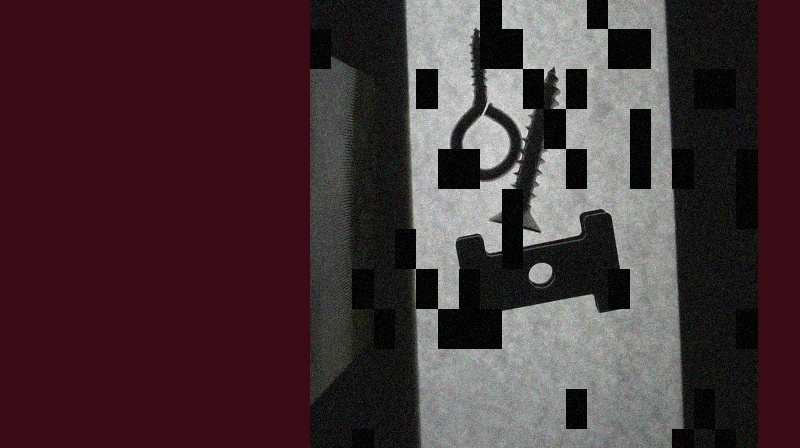O001: (446, 23, 525, 184)
O002: (454, 204, 628, 340)
S001: (489, 60, 561, 233)
